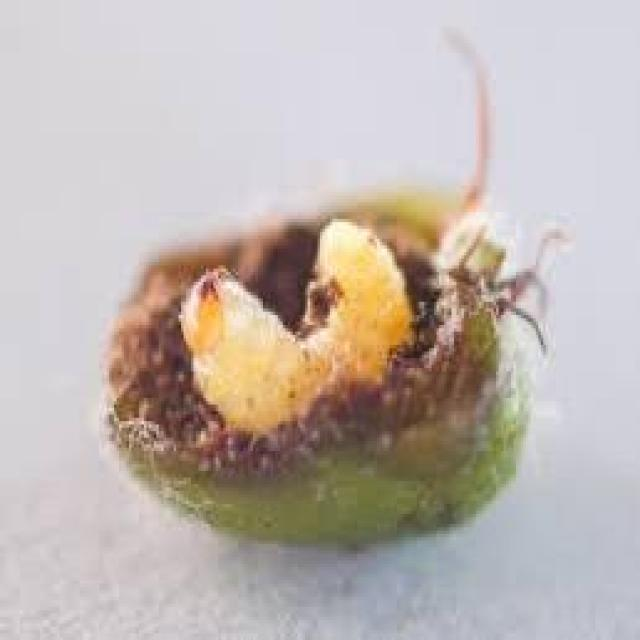Anthracnose: (106, 185, 544, 540)
